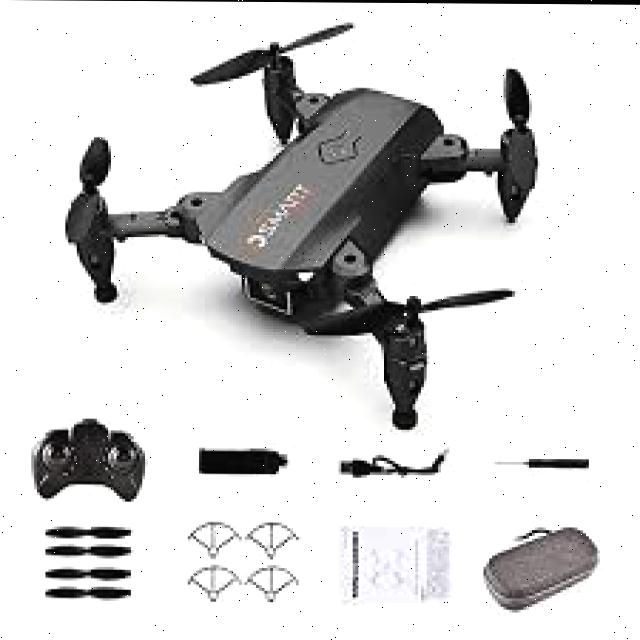drone: (42, 18, 560, 427)
